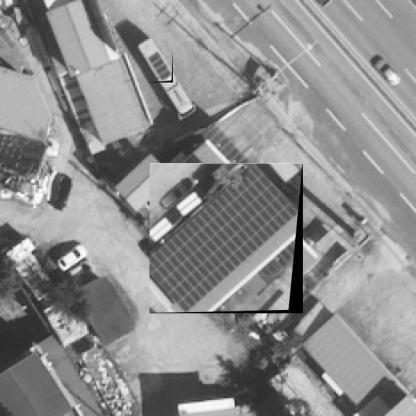solar-pv-panel: (150, 164, 299, 312), (149, 52, 172, 82)
